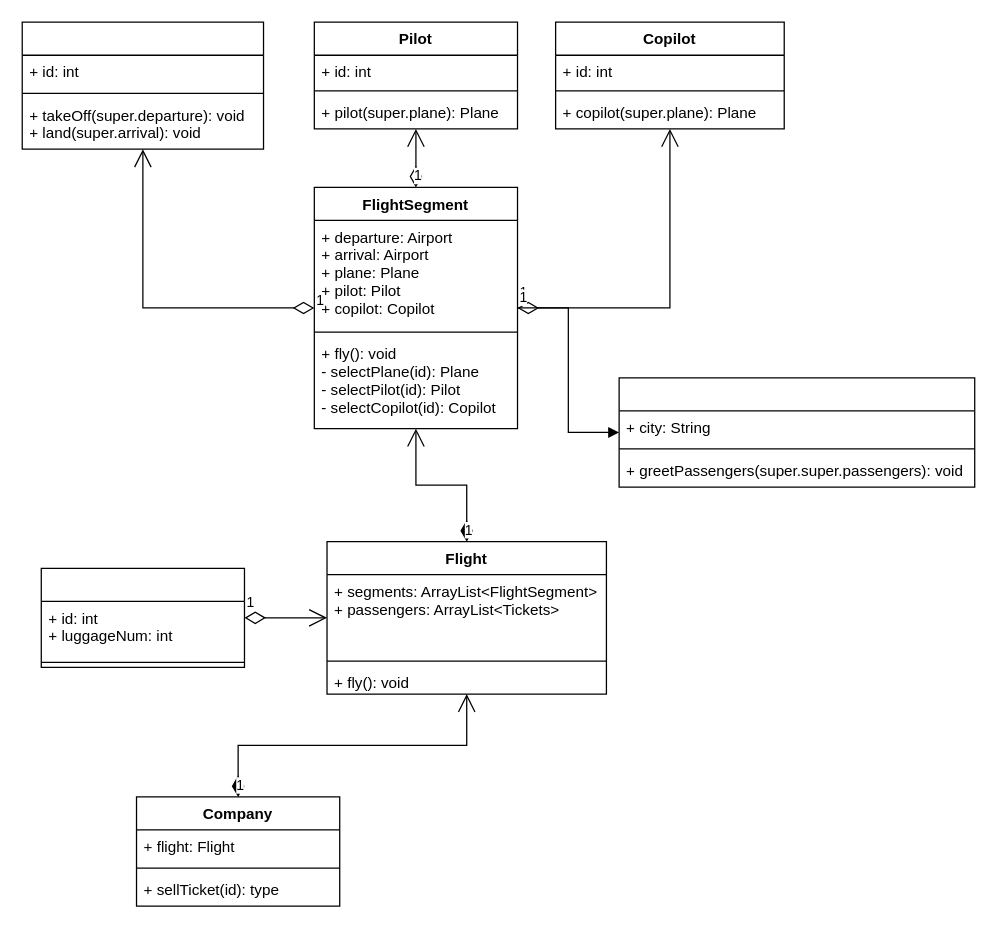
The diagram is 997 pixels wide and 932 high, and some of its shapes have lost their labels. Each missing label, with the box of its shape:
Airport: (618, 377, 975, 487)
Plane: (21, 21, 264, 149)
Tickets: (40, 567, 244, 667)
